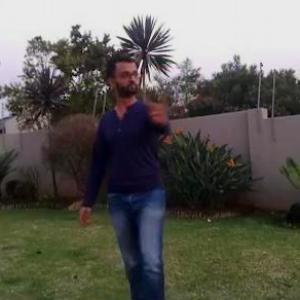takeoff-hand: (140, 86, 173, 126)
